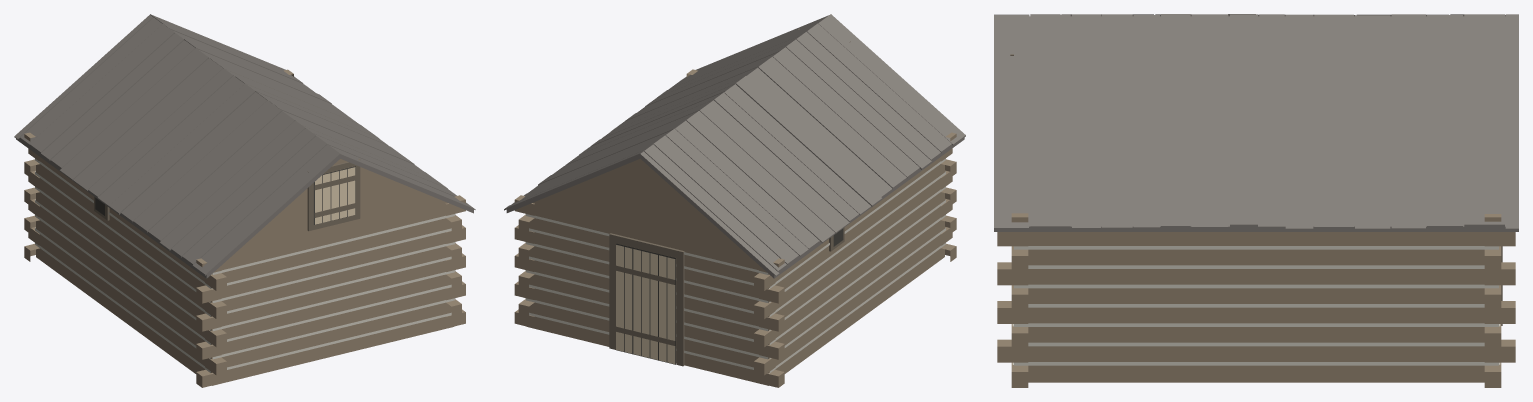
File: recon_1835_south_a1_046__inferred_1835.glb
The picture shows the model from 3 angles, left to right: view 1: azimuth 30°, elevation 25°; view 2: azimuth 150°, elevation 25°; view 3: azimuth 270°, elevation 25°; orthographic projection. The views are drawn at different scales.
Parts seen in each view (by area): view 1: recon_1835_south_a1_046__inferred_1835; view 2: recon_1835_south_a1_046__inferred_1835; view 3: recon_1835_south_a1_046__inferred_1835.
Part boxes in pixels (left/top/right/bottom): recon_1835_south_a1_046__inferred_1835: left=14, top=14, right=475, bottom=387; recon_1835_south_a1_046__inferred_1835: left=504, top=14, right=965, bottom=387; recon_1835_south_a1_046__inferred_1835: left=994, top=14, right=1518, bottom=387.
Bounding box in the file's own units: 6.15 × 4.49 × 7.44.
